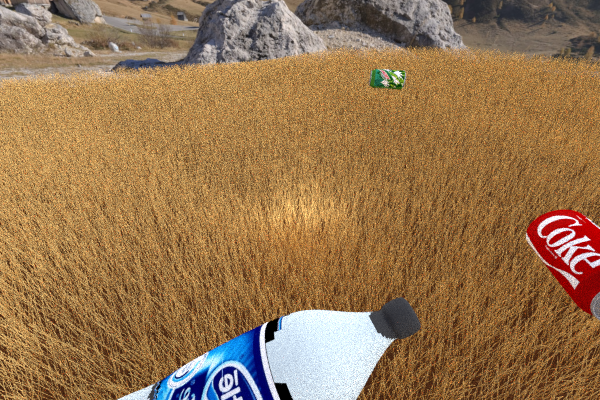Plastic Bottle: (7, 297, 420, 400), (525, 209, 600, 326), (368, 69, 406, 89)
